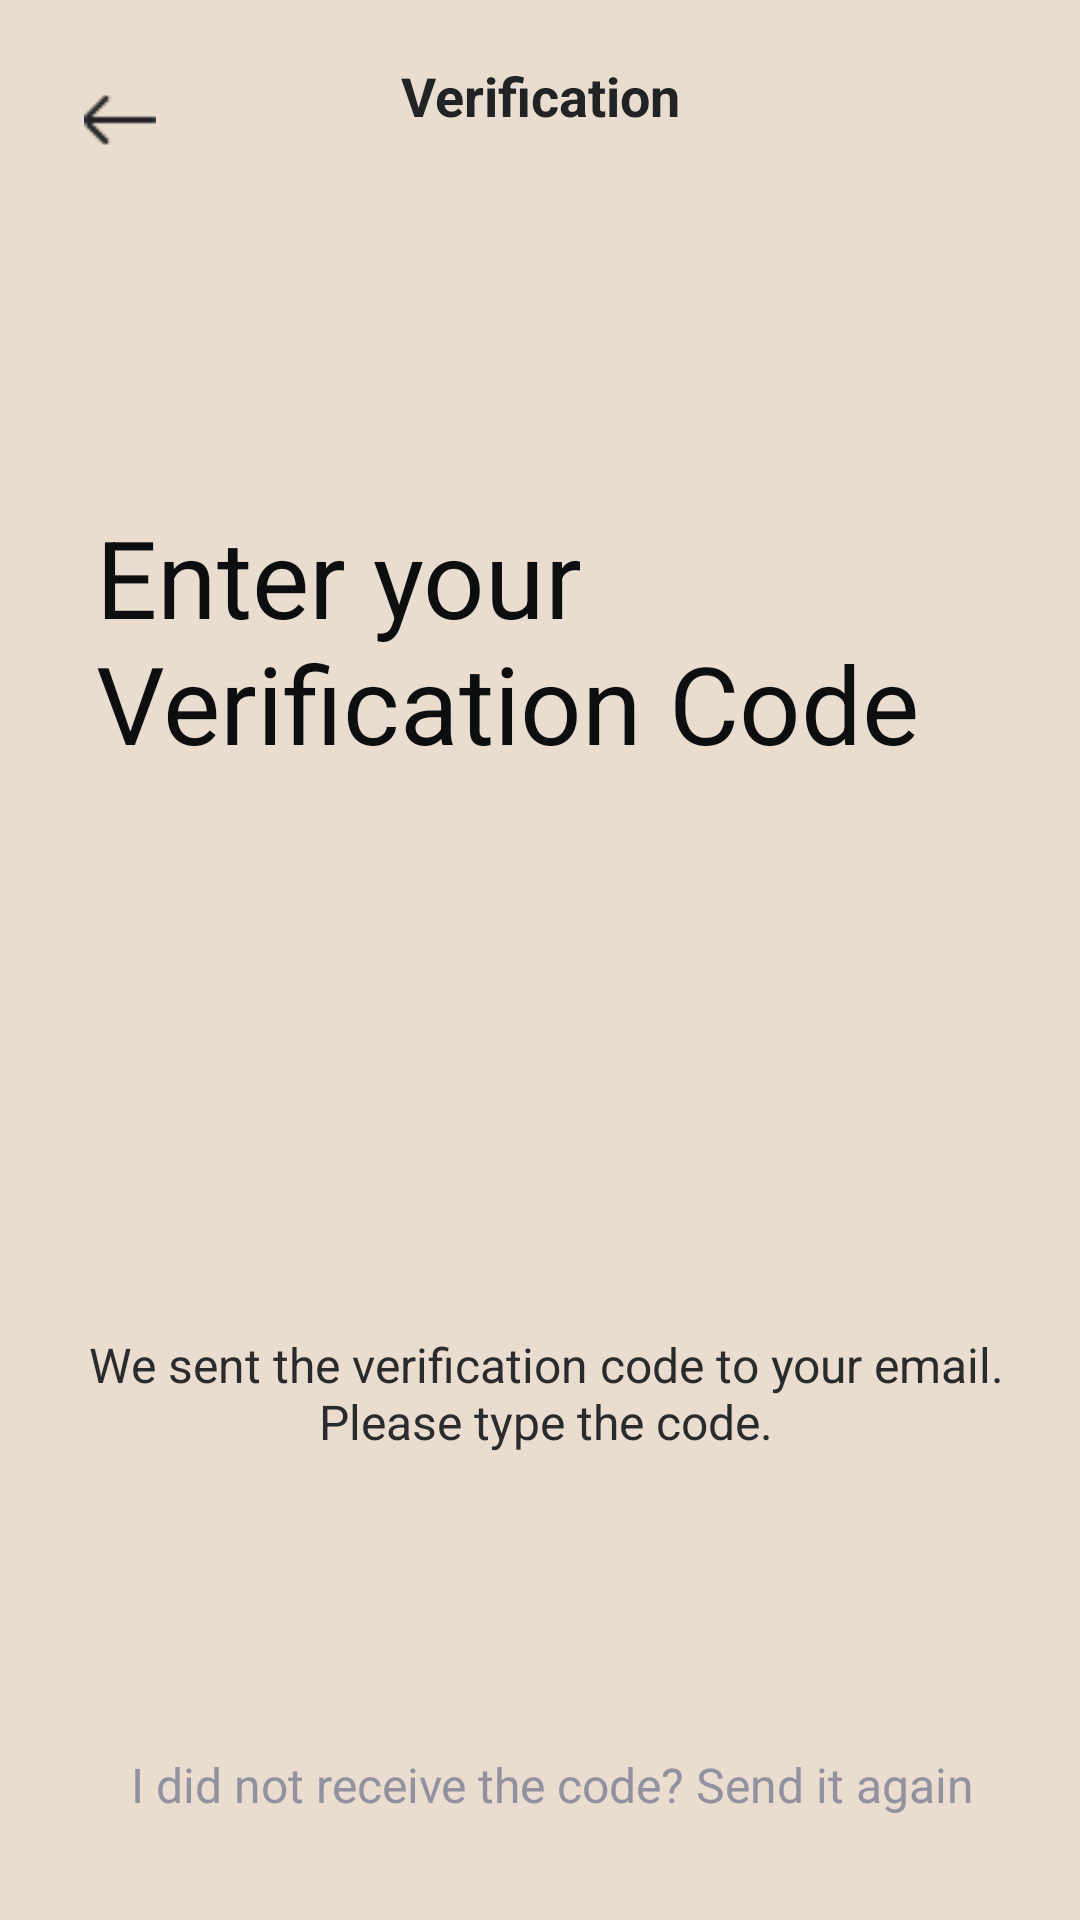

Screen size 1080x1920. Icon name, then its center in pixels as point (x, y):
back arrow: point (120, 120)
